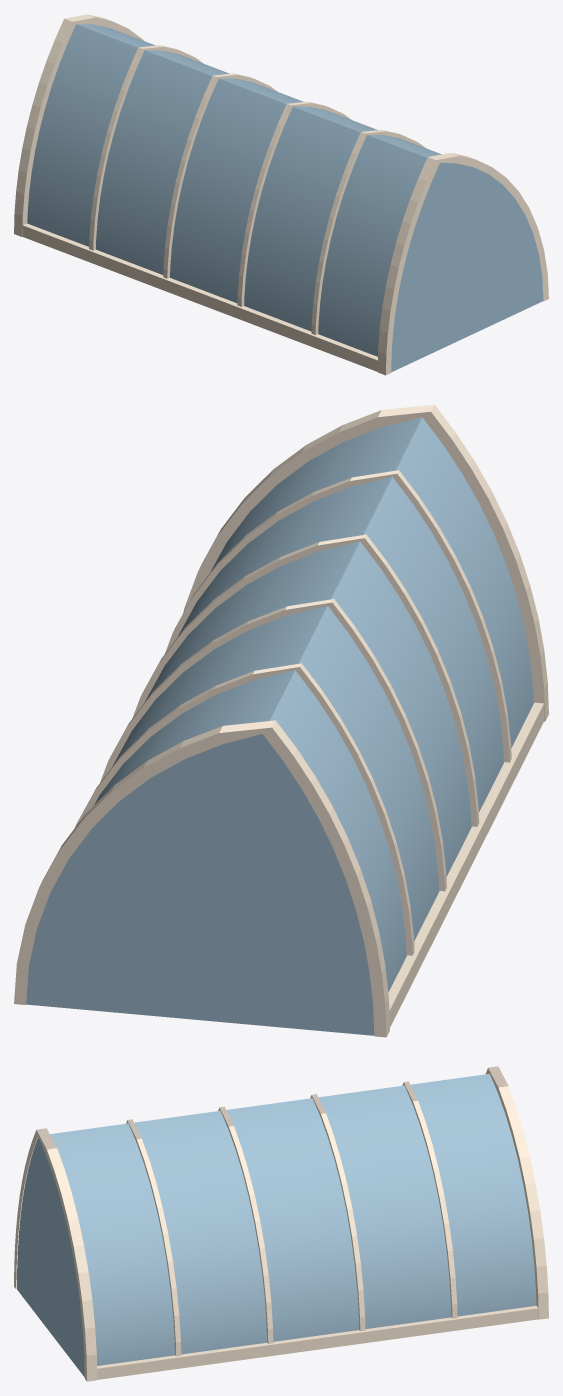
Rendered from sea-chihuly-glasshouse.glb.
3 renders of one model, top to bottom at view 1: azimuth 30°, elevation 25°; view 2: azimuth 150°, elevation 25°; view 3: azimuth 270°, elevation 25°, orthographic. The views are drawn at different scales.
Parts seen in each view (by area): view 1: Chihuly Glasshouse; view 2: Chihuly Glasshouse; view 3: Chihuly Glasshouse.
Boxes of the visible parts, x1=… form: Chihuly Glasshouse: x1=14, y1=14, x2=548, y2=375; Chihuly Glasshouse: x1=14, y1=404, x2=548, y2=1037; Chihuly Glasshouse: x1=14, y1=1066, x2=548, y2=1381.
Bounding box in the file's own units: 24.25 × 13.28 × 34.59.
